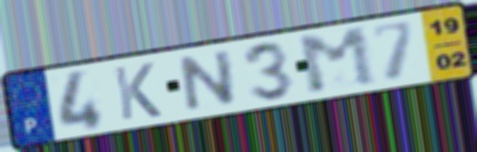3: (241, 38, 296, 103)
4: (56, 68, 107, 133)
7: (369, 18, 417, 84)
K: (110, 61, 165, 123)
M: (294, 24, 381, 97)
N: (178, 47, 239, 115)
